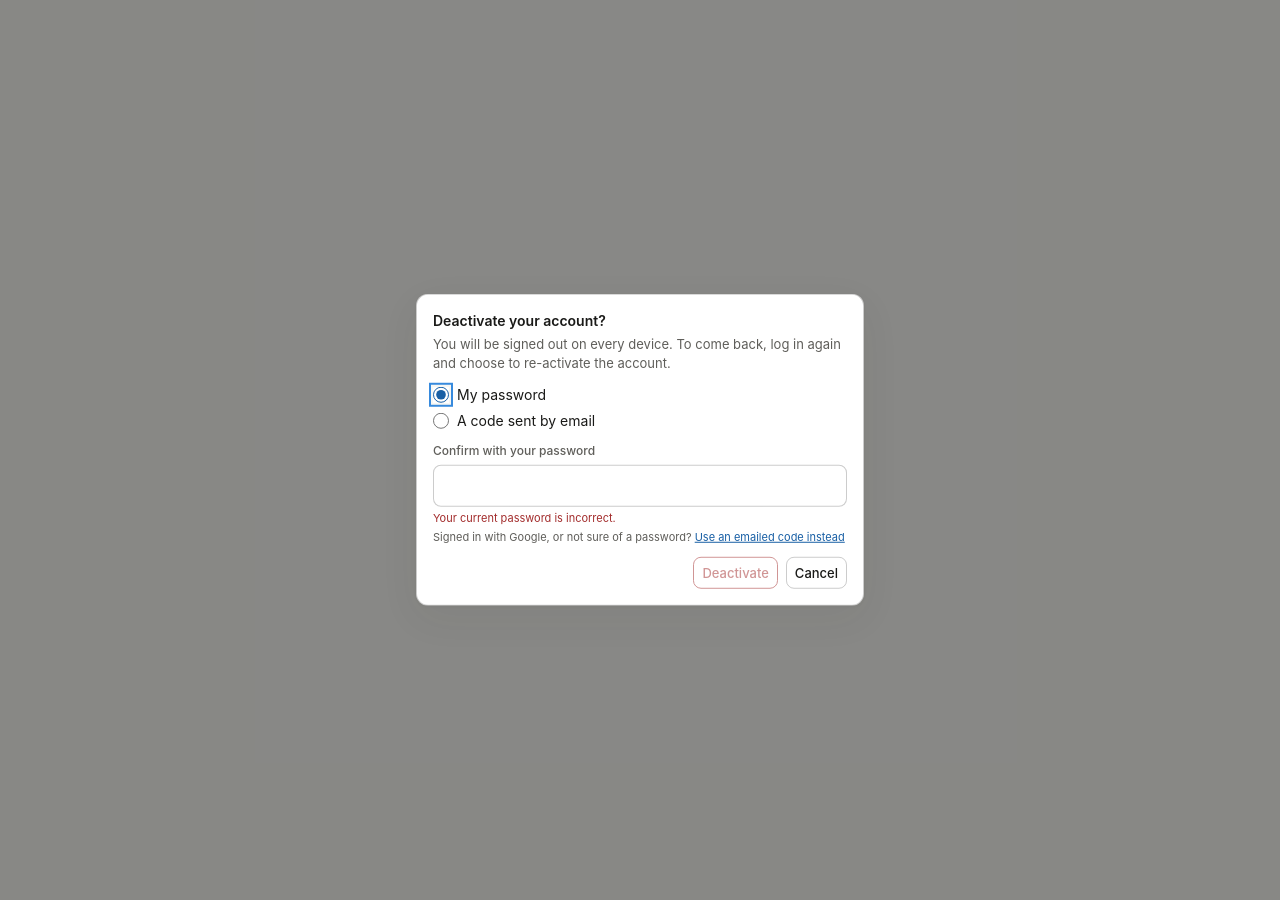
Test case: DeactivateAccountDialog › shows a wrong password on the password field with a way to switch to the emailed code
Expected: the message reads "Your current password is incorrect.", [433,510,616,524]
What coordinates should you click on to do the following:
click the button "Use an emailed code instead"
I would click on:
 (770, 538)
Its box is [695,530,845,545].
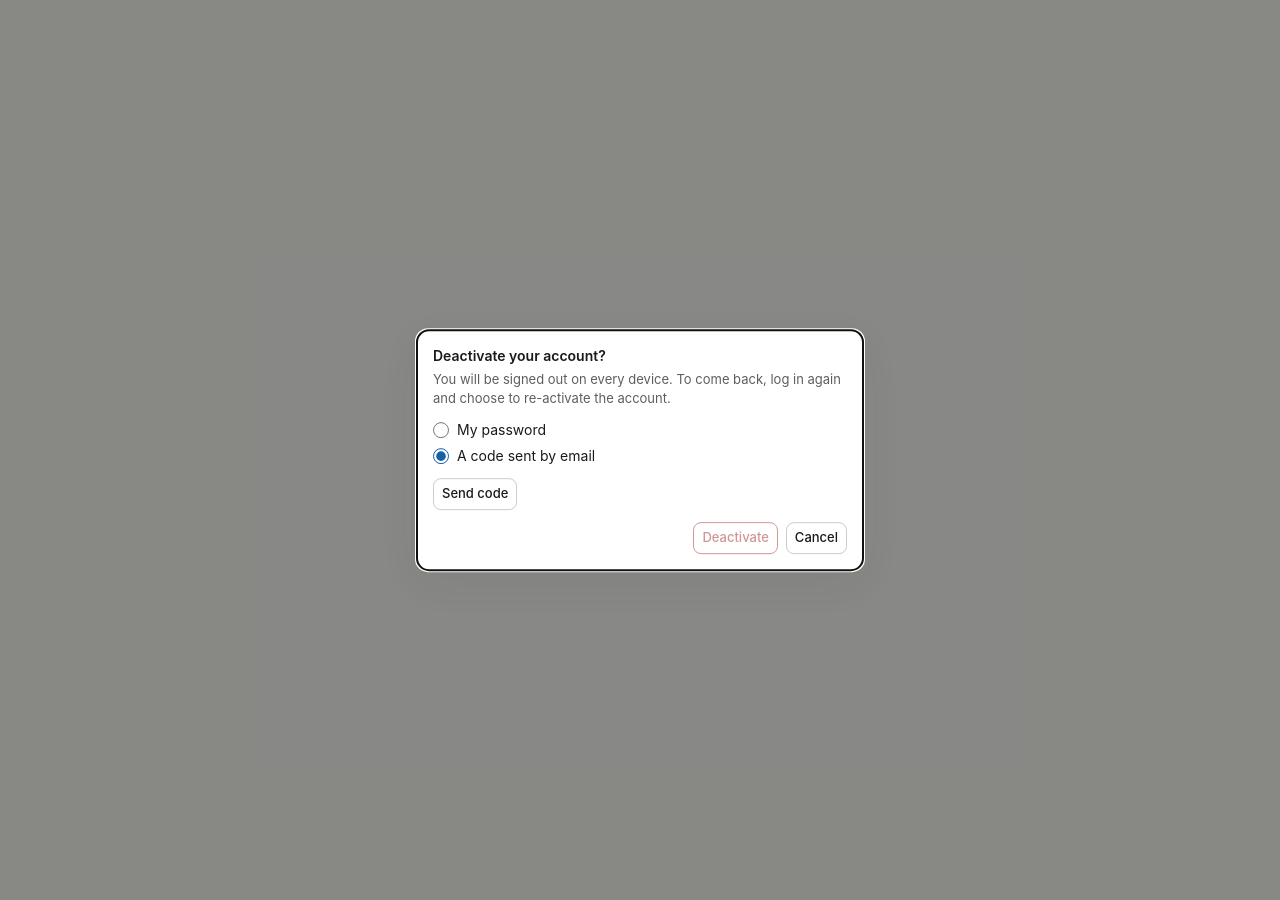
Result: the button "Send code" is shown at [433,478,517,510]
